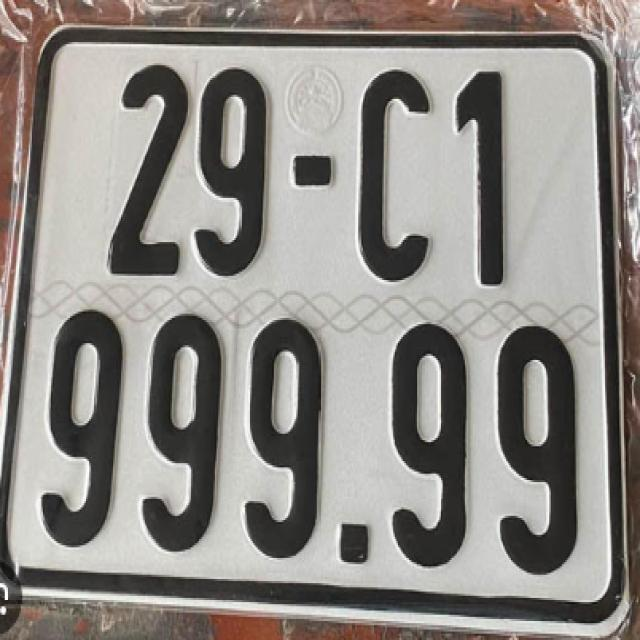1: (446, 59, 524, 293)
2: (108, 50, 187, 288)
9: (233, 314, 334, 568), (486, 316, 582, 582), (379, 316, 474, 576), (140, 312, 235, 559), (29, 304, 120, 557), (194, 67, 278, 281)
C: (348, 65, 433, 287)
